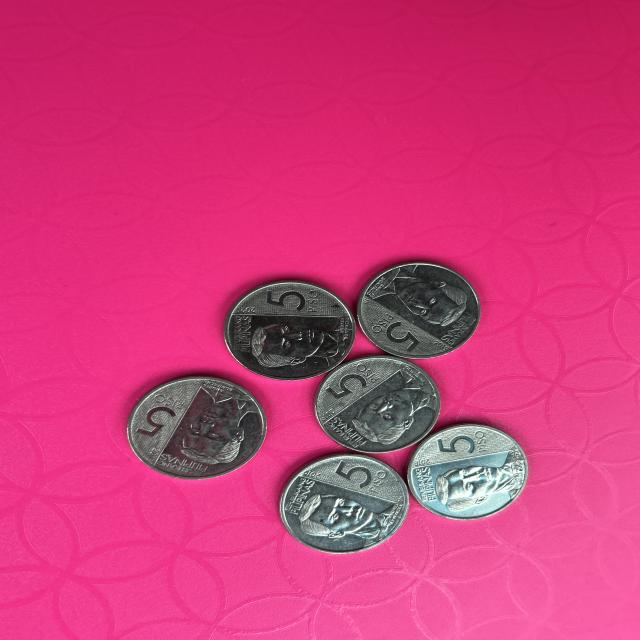5_New_Front: (131, 393, 186, 447), (363, 310, 432, 353), (258, 283, 328, 319), (335, 458, 392, 501), (322, 361, 381, 399), (434, 429, 502, 457)
